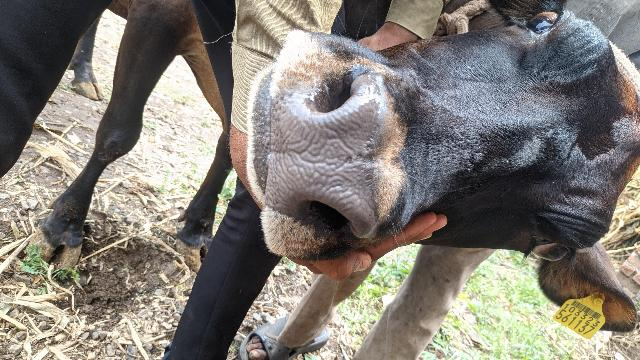Muzzle: (264, 77, 380, 233)
